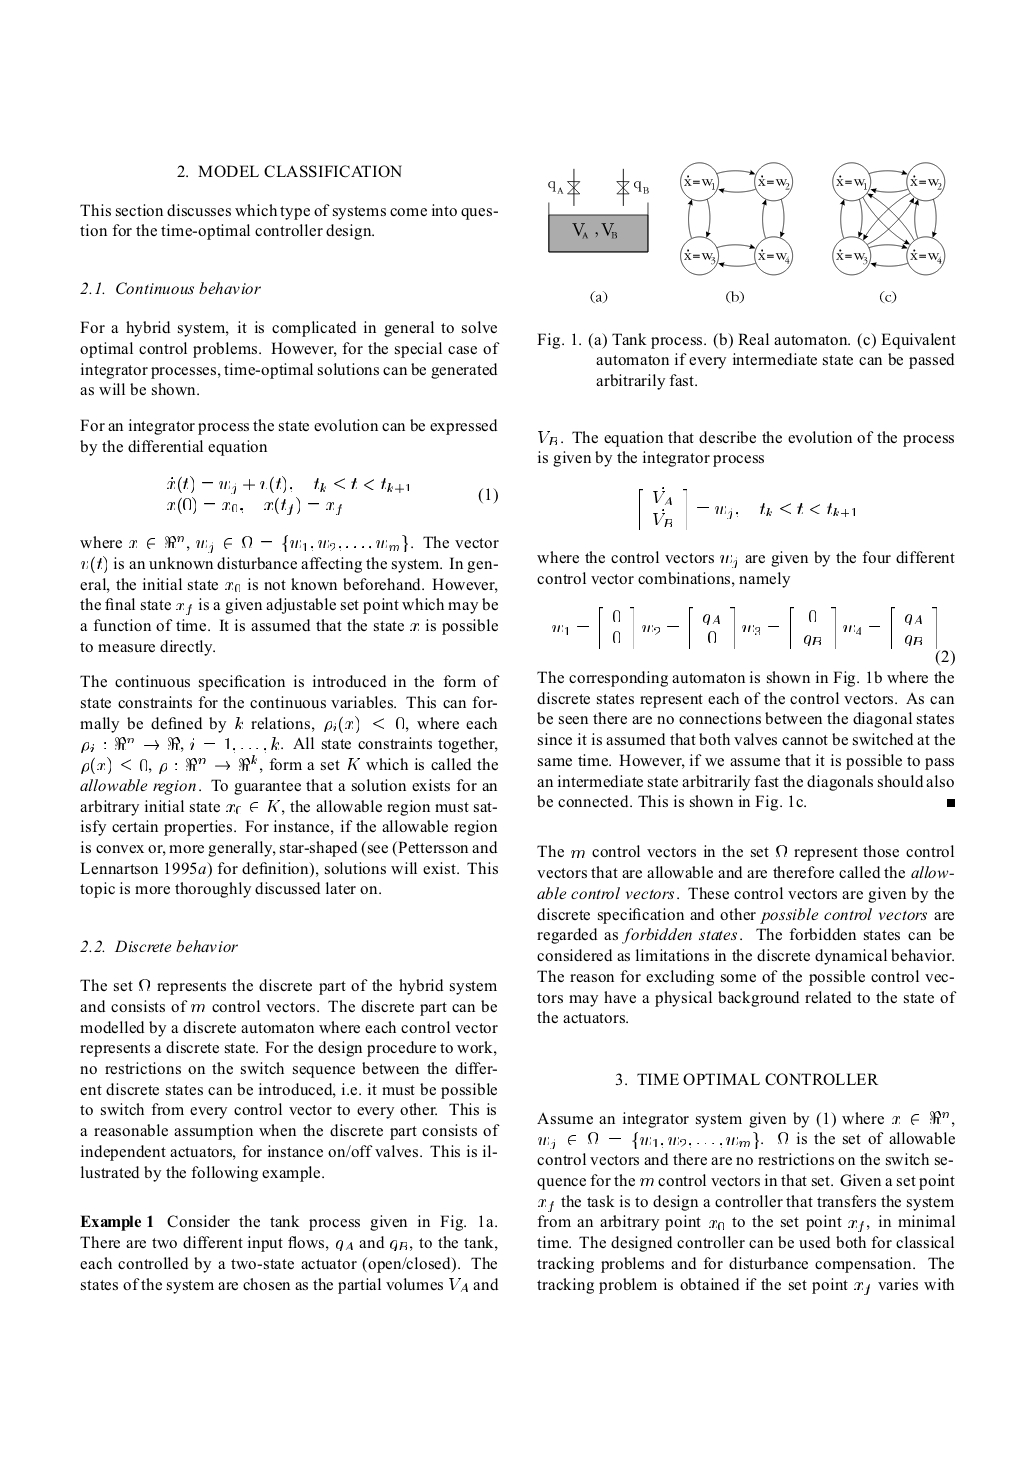figure: (680, 162, 793, 276), (832, 162, 945, 276), (548, 168, 648, 252)
formula: (552, 605, 954, 666), (167, 475, 497, 515), (639, 485, 854, 530)
